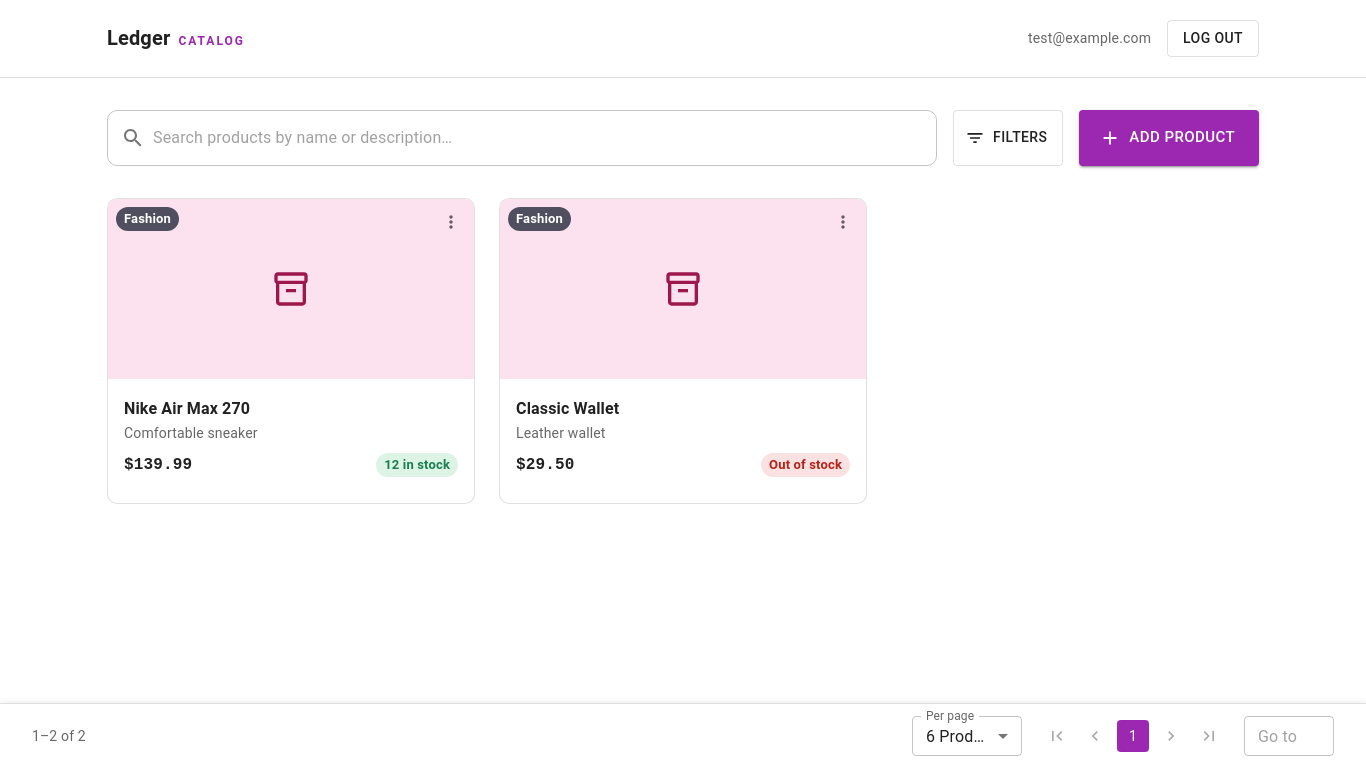
it: ProductsPage › adds a new product through the modal and shows a success toast
This screenshot has width=1366, height=768.
Expected: the heading "Nike Air Max 270" is shown, [124, 398, 250, 418]
Click the button "Add product" at (1169, 138), box [1079, 110, 1259, 166]
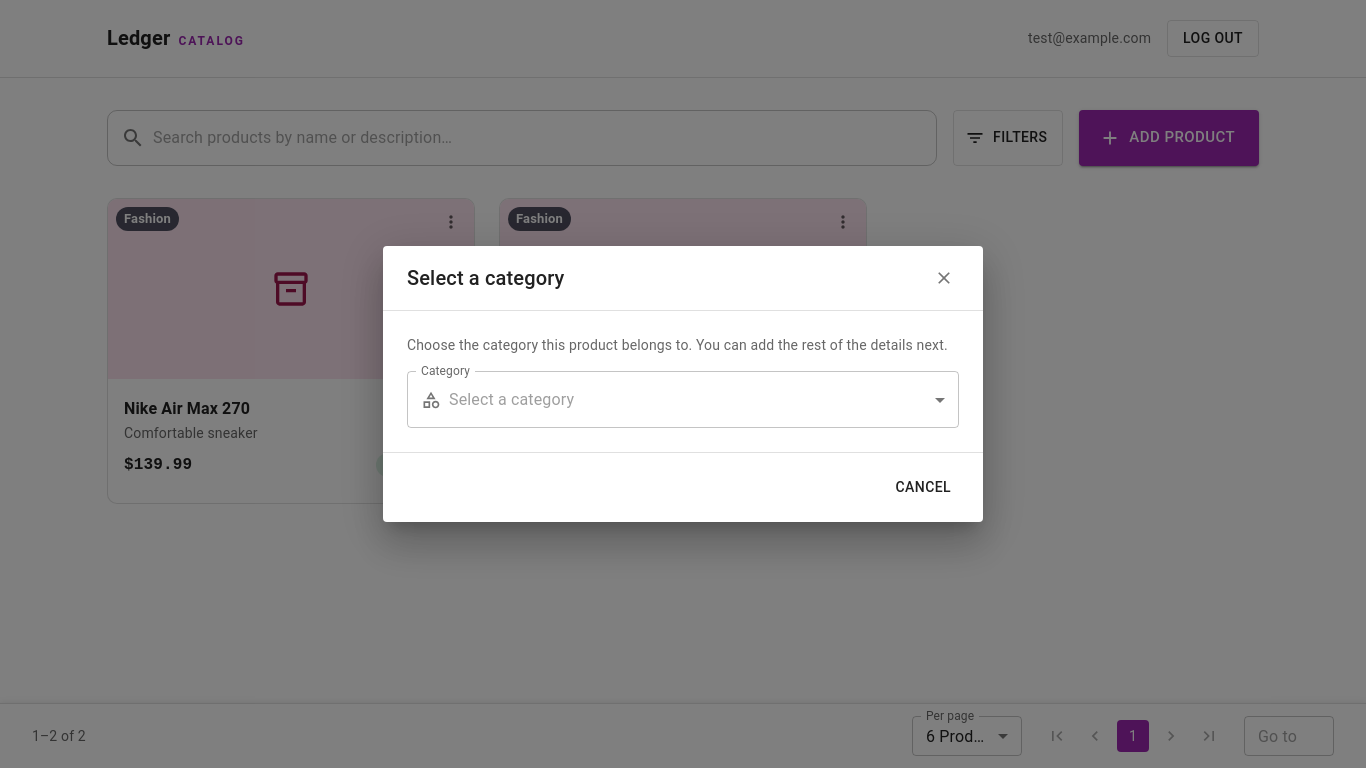
Press the mouse on the dropdown labelled "category" at (512, 399), box [449, 390, 574, 409]
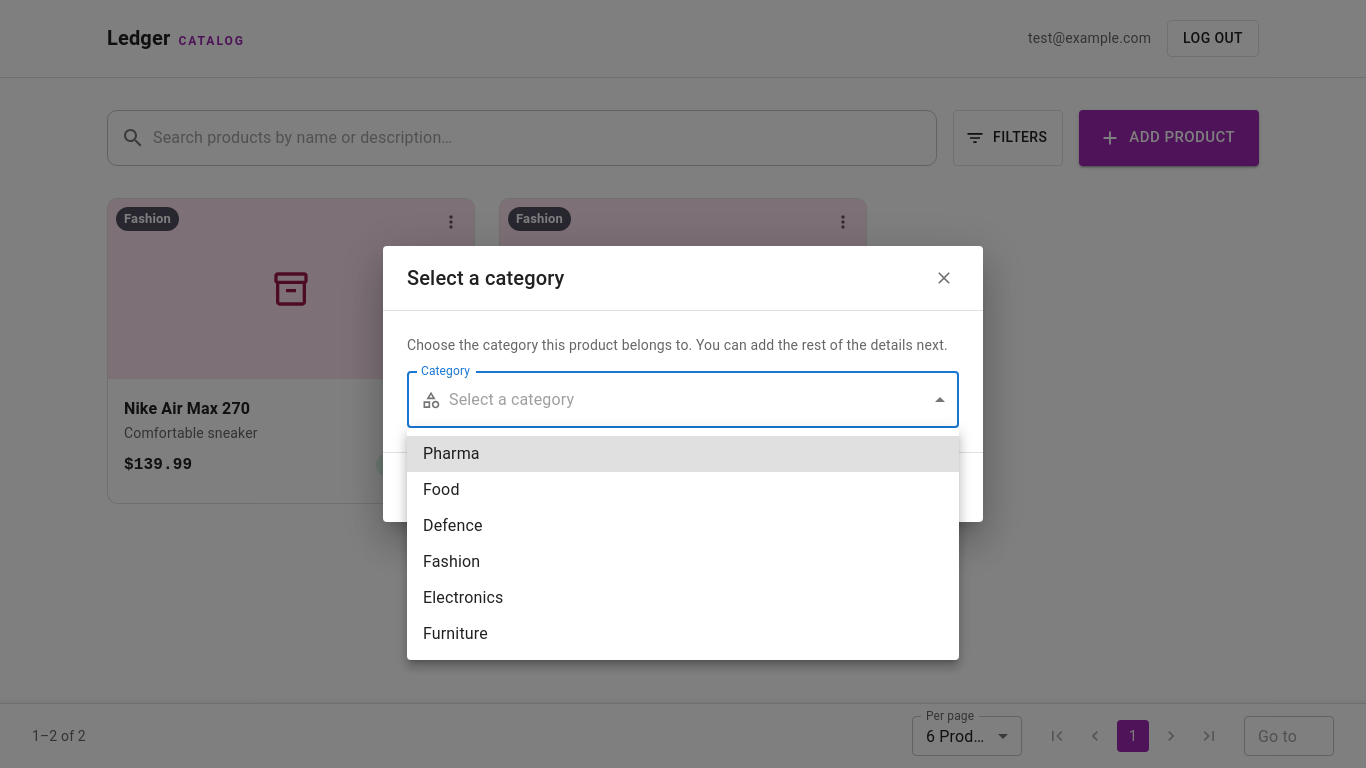
Click the option "Food" at (441, 490), box [423, 480, 460, 499]
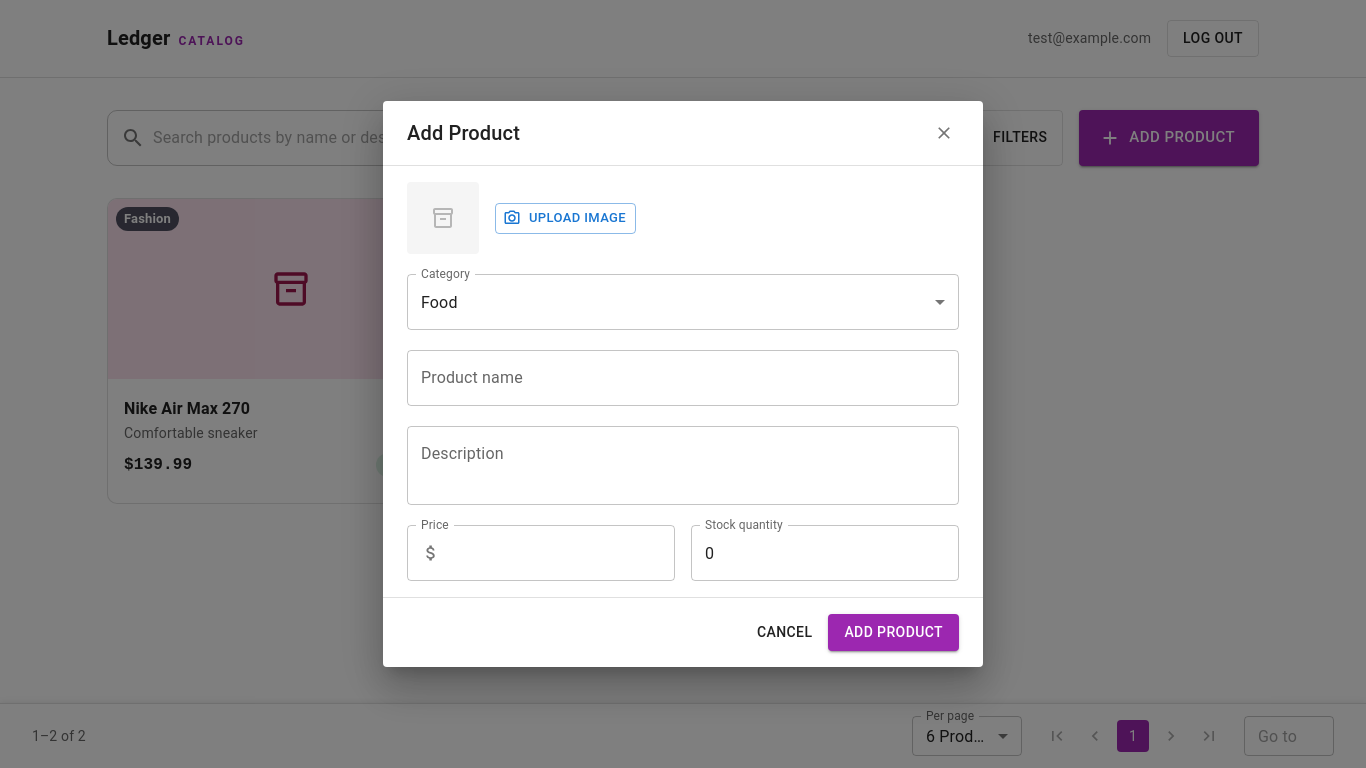
Type "Test Sneaker" into the field labelled "Product name" at (683, 378), box [407, 350, 959, 406]
Type "59.99" into the number field labelled "Price" at (562, 553), box [449, 525, 675, 581]
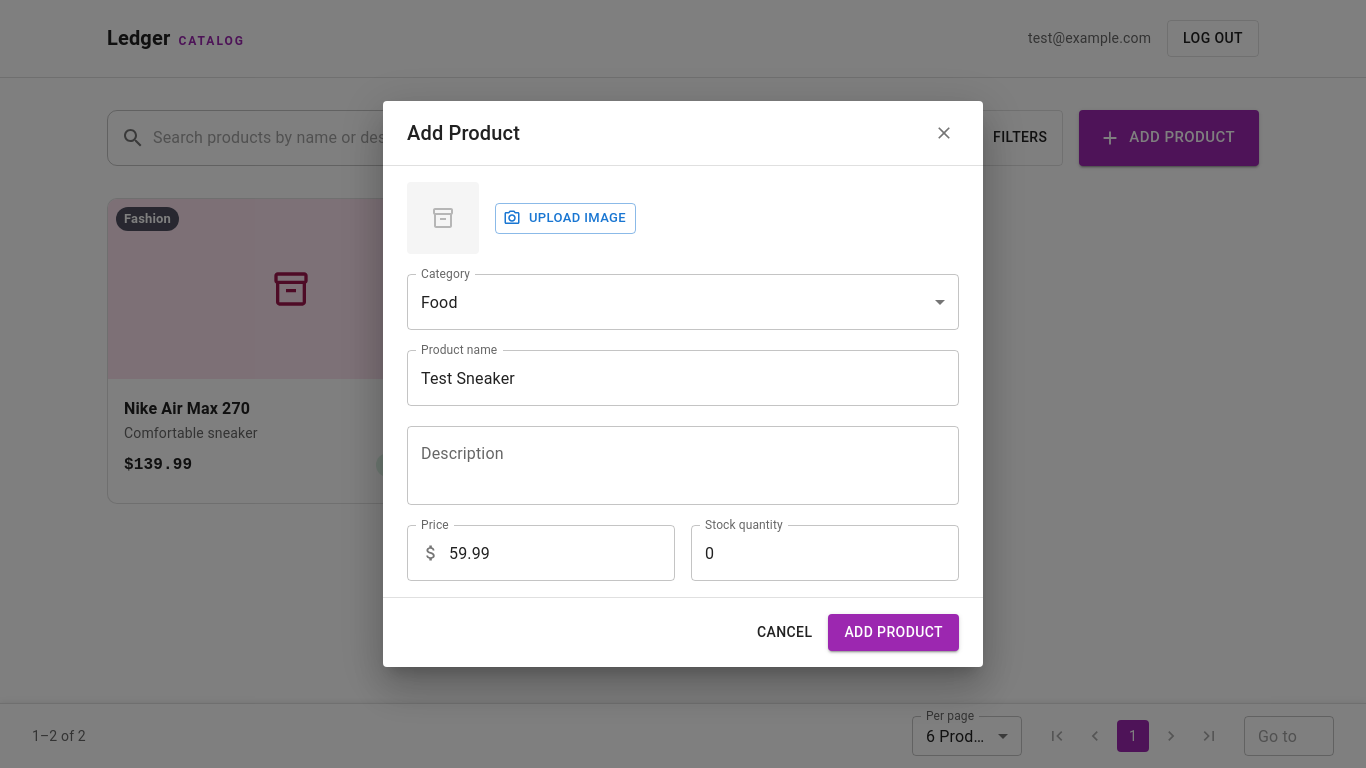
Replace the text in the number field labelled "Stock quantity" with "5" at (825, 553), box [691, 525, 959, 581]
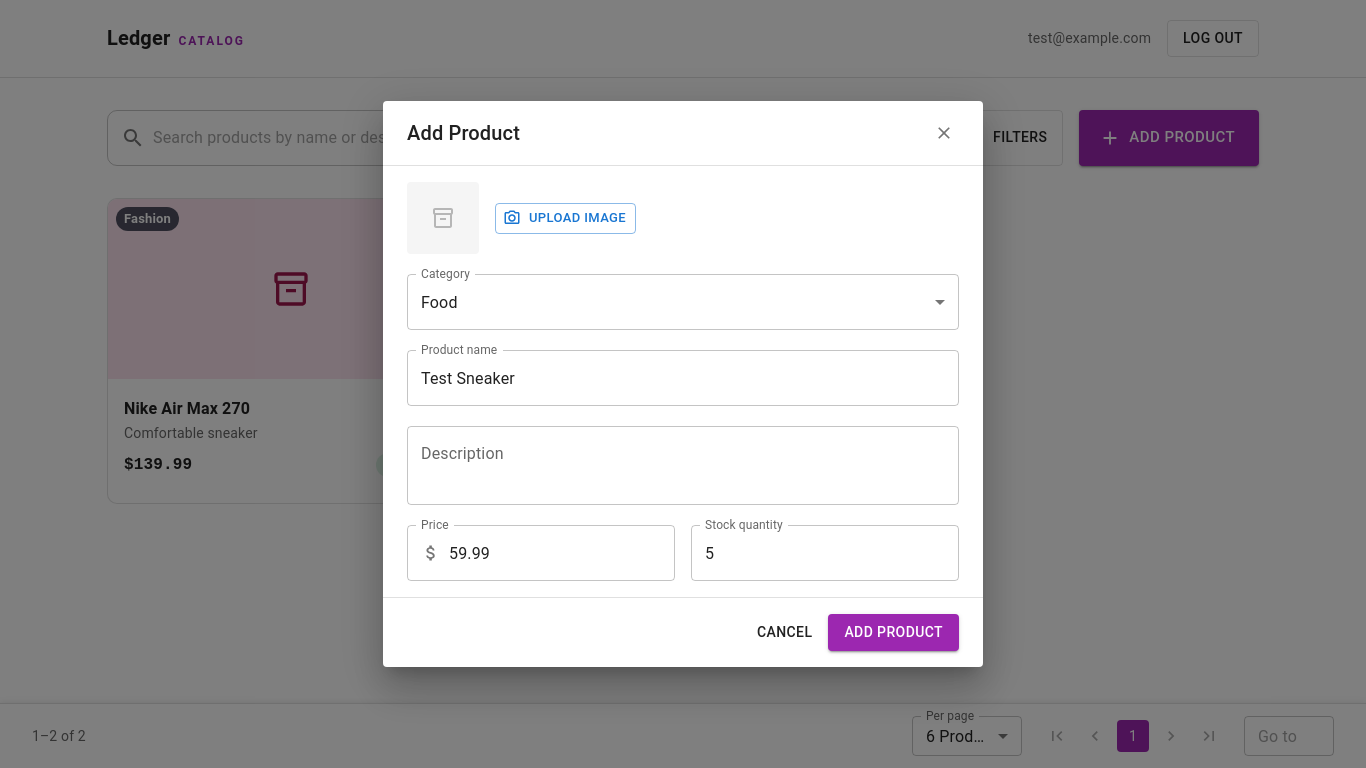
Click the button "Add product" at (894, 633), box [828, 614, 959, 651]
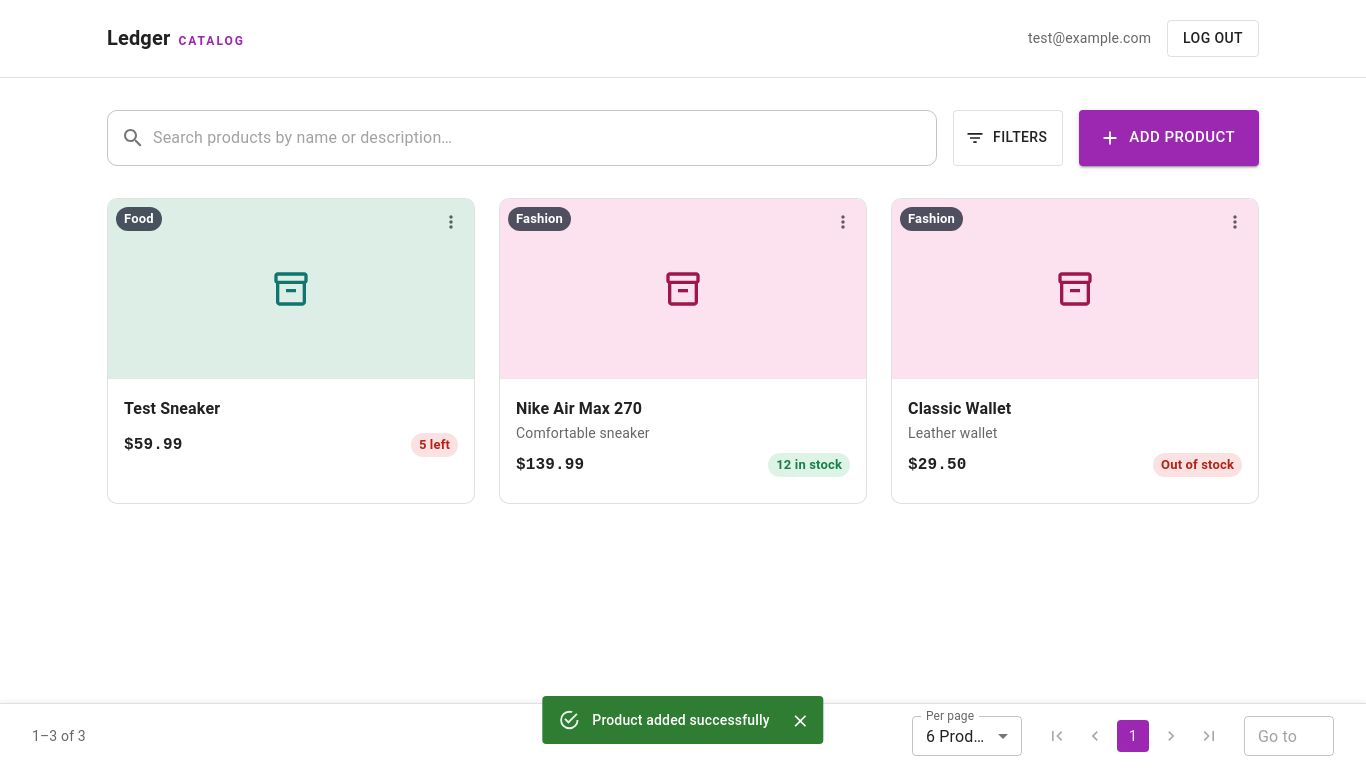
Now the text "Product added successfully" is shown, box [592, 712, 770, 728]
Now the heading "Test Sneaker" is shown, box [124, 398, 220, 418]
